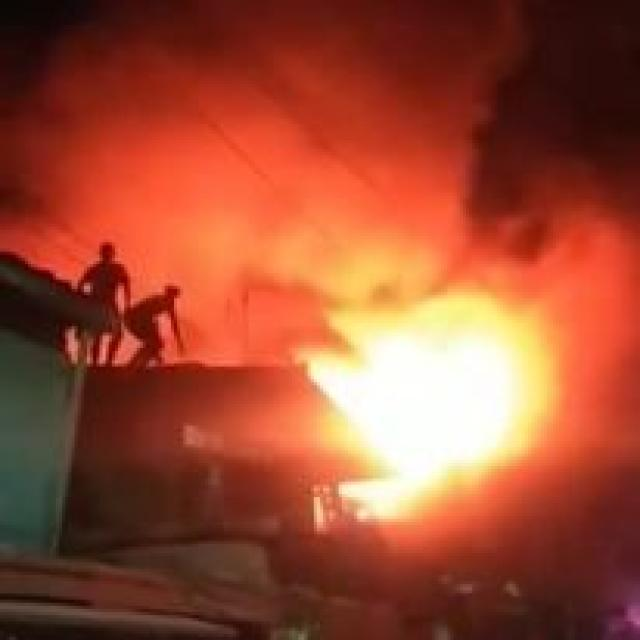Fire: (290, 248, 564, 544)
Smoke: (1, 0, 640, 357)
